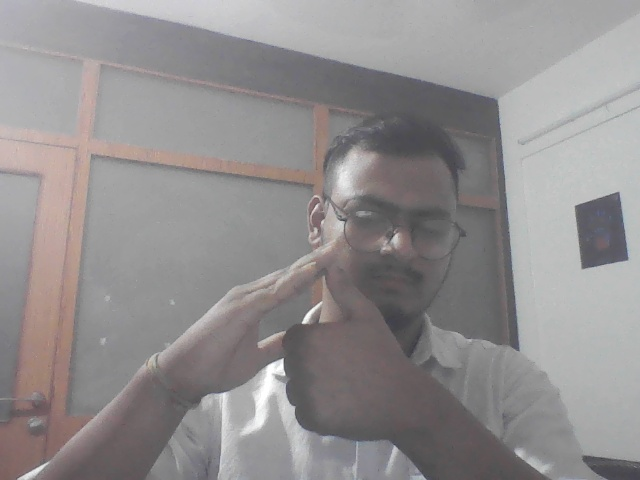I Feel You: (183, 230, 406, 451)
